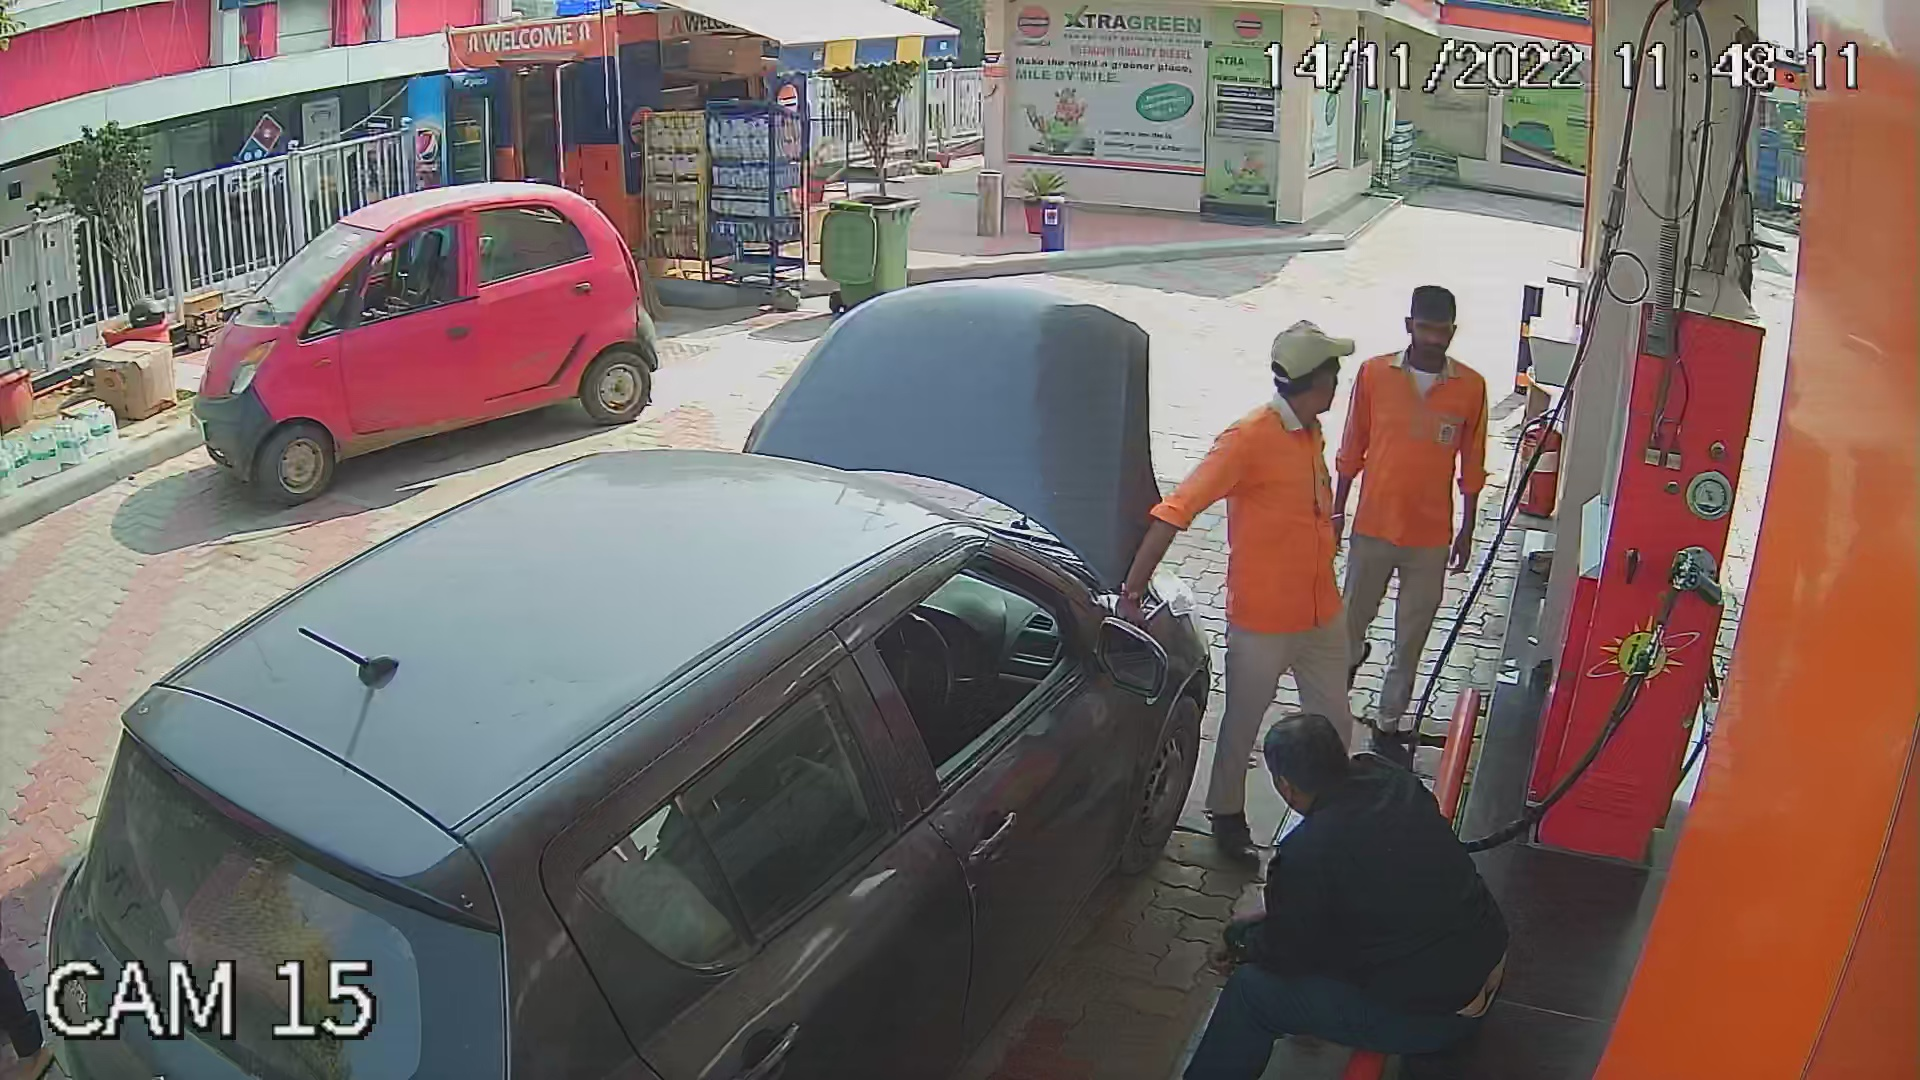Car: (25, 274, 1218, 1073), (182, 175, 673, 514)
Others: (1185, 313, 1362, 843), (1345, 269, 1499, 774)
